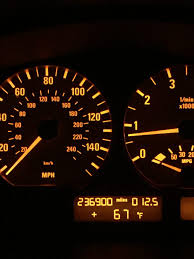Digital_Meter: (75, 194, 165, 227)
